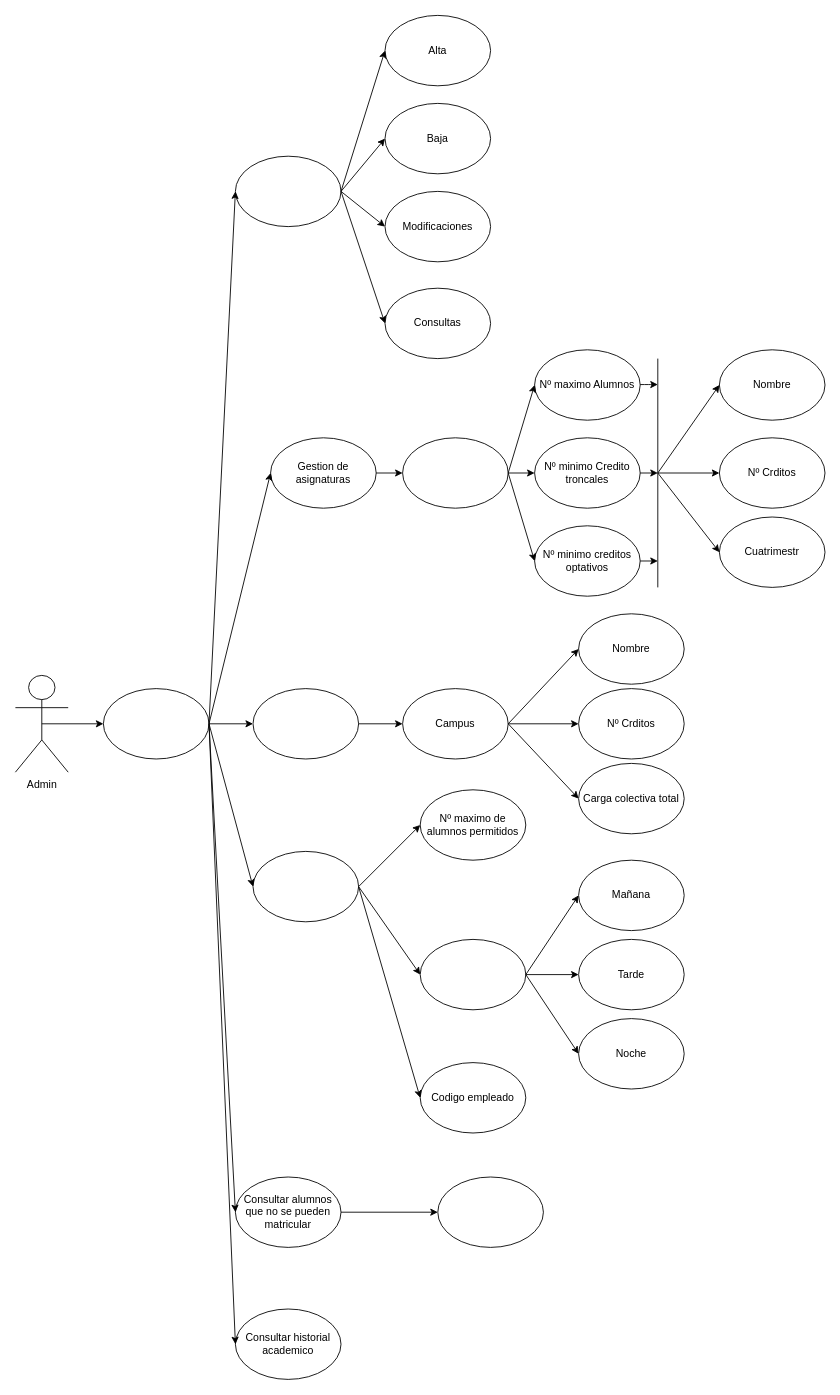
Image size: 840x1395. Some labels were removed from this diagram. Each missing label, with the centre of its shape:
"Curso" belongs at pixel 455 472.
"Gestion de grupos" belongs at pixel 305 886.
"Gestion de titulaciones" belongs at pixel 305 723.
"Gestión ABMC" belongs at pixel 288 191.
"Idetificarse" belongs at pixel 156 723.
"Motivo" belongs at pixel 490 1211.
"Tipo de grupo" belongs at pixel 472 974.
